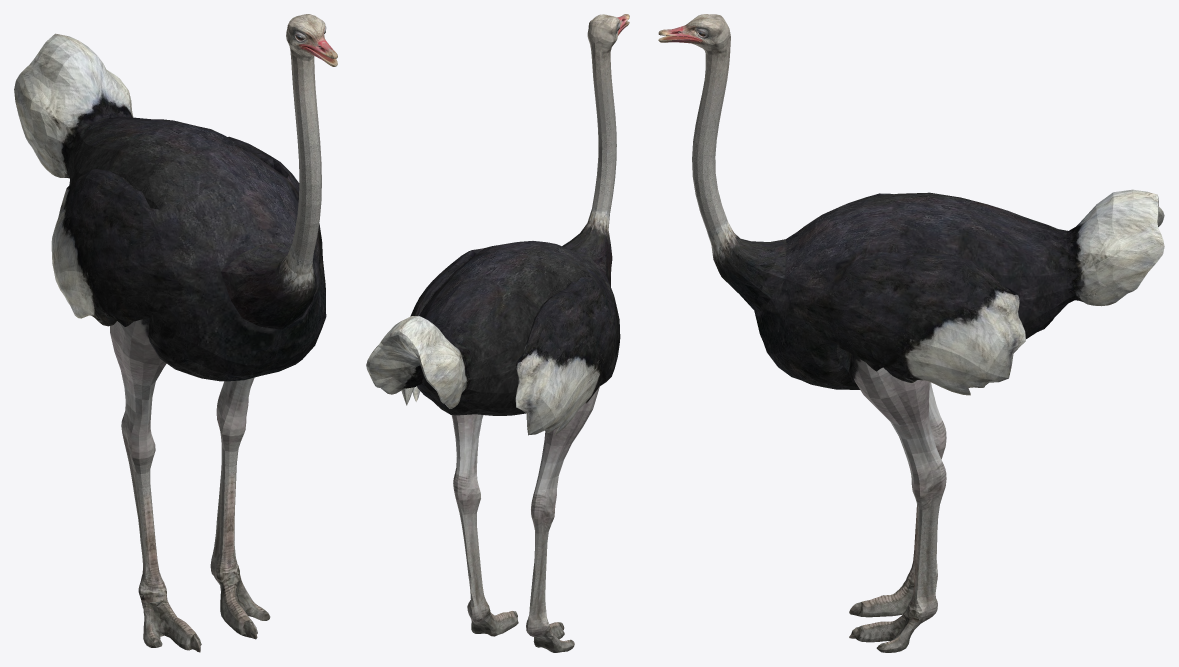
File: animal-ostrich.fbx
3 renders of one model, left to right at view 1: azimuth 30°, elevation 25°; view 2: azimuth 150°, elevation 25°; view 3: azimuth 270°, elevation 25°, orthographic. The views are drawn at different scales.
Parts seen in each view (by area): view 1: VFZ9ARPYQMBGMGTX7BM8WH9ID.140; view 2: VFZ9ARPYQMBGMGTX7BM8WH9ID.140; view 3: VFZ9ARPYQMBGMGTX7BM8WH9ID.140.
Boxes of the visible parts, x1,y1,x2,y2 form: VFZ9ARPYQMBGMGTX7BM8WH9ID.140: (14,14,337,652); VFZ9ARPYQMBGMGTX7BM8WH9ID.140: (366,14,629,652); VFZ9ARPYQMBGMGTX7BM8WH9ID.140: (658,14,1164,652).
Size of the model in its own units: 42.49 by 131 by 98.45.
